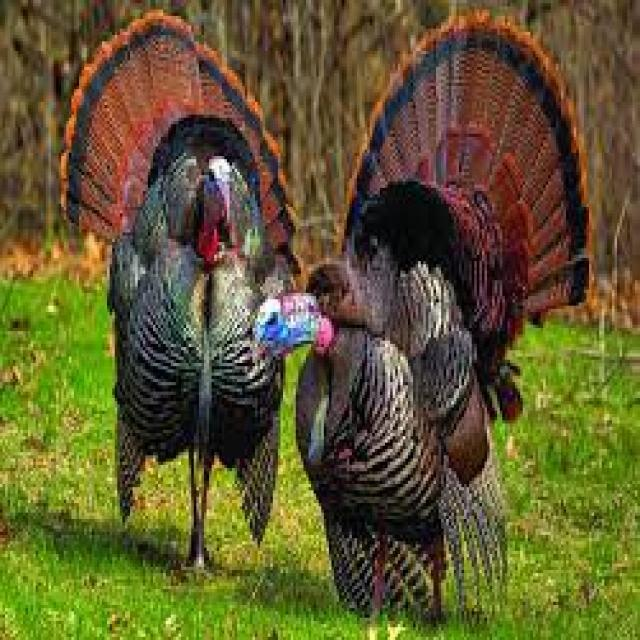Turkey: (261, 19, 596, 609), (47, 8, 313, 580)
